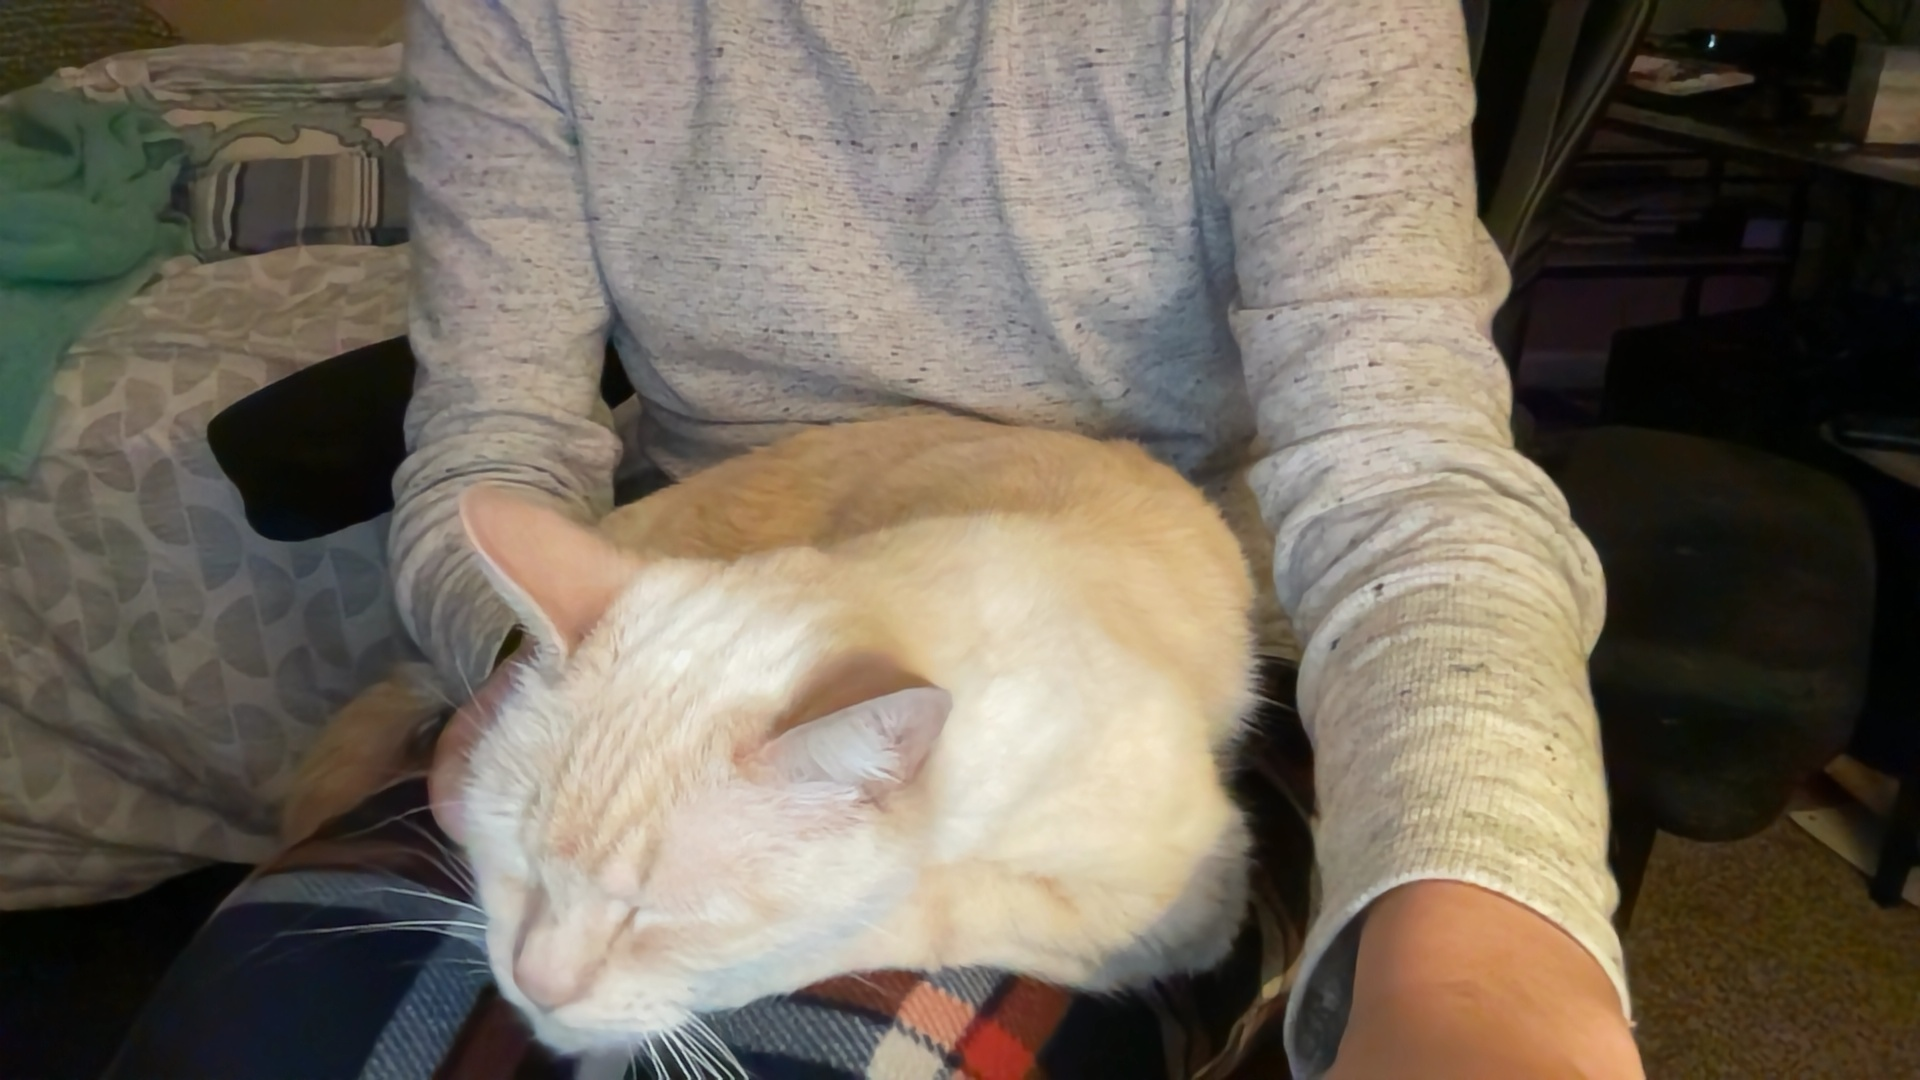cat: (429, 421, 1276, 1051)
